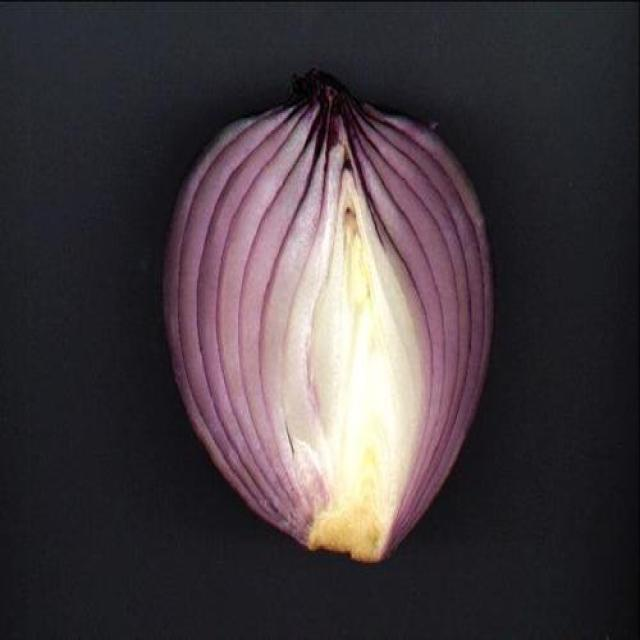onion: (162, 88, 512, 579)
